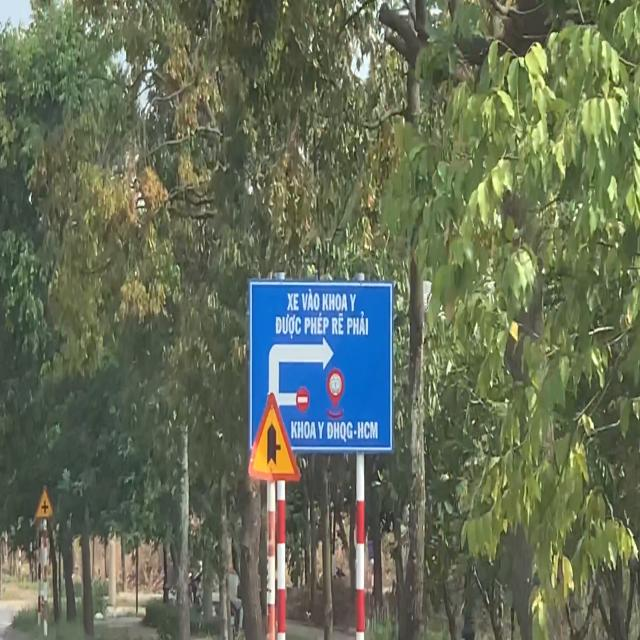Cam nguoc chieu: (296, 387, 310, 412)
Duong giao nhau: (34, 484, 56, 520)
Giao voi duong khong uu tien: (246, 392, 301, 482)
